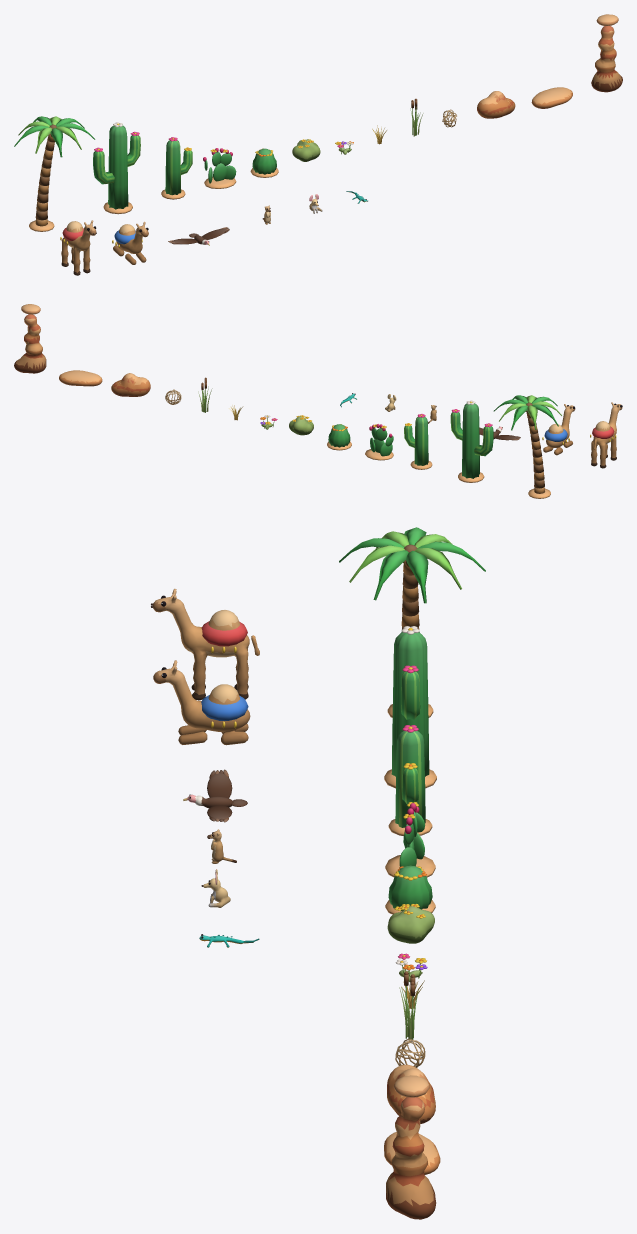
File: DesertLife.fbx
The picture shows the model from 3 angles, top to bottom: view 1: azimuth 30°, elevation 25°; view 2: azimuth 150°, elevation 25°; view 3: azimuth 270°, elevation 25°; orthographic projection. The views are drawn at different scales.
Parts seen in each view (by area): view 1: SaguaroTall, PalmTree, RockPillar, Camel, SaguaroSmall, CamelResting, PricklyPear, BoulderA, SunRock, BarrelCactus, DesertShrub, VultureFlying; view 2: SaguaroTall, PalmTree, RockPillar, Camel, SaguaroSmall, CamelResting, PricklyPear, BoulderA, SunRock, BarrelCactus, DesertShrub; view 3: PalmTree, RockPillar, Camel, SaguaroTall, CamelResting, SaguaroSmall, BarrelCactus, PricklyPear, VultureFlying, DesertShrub, BoulderA.
Boxes of the visible parts, <box> form: SaguaroTall: <box>93,122,140,214</box>; PalmTree: <box>14,116,95,231</box>; RockPillar: <box>591,14,622,92</box>; Camel: <box>60,220,96,275</box>; SaguaroSmall: <box>161,137,192,199</box>; CamelResting: <box>112,221,148,264</box>; PricklyPear: <box>203,148,236,188</box>; BoulderA: <box>477,91,515,118</box>; SunRock: <box>531,87,572,108</box>; BarrelCactus: <box>250,148,278,177</box>; DesertShrub: <box>292,139,320,161</box>; VultureFlying: <box>168,227,229,245</box>; SaguaroTall: <box>450,400,493,482</box>; PalmTree: <box>493,395,561,498</box>; RockPillar: <box>14,304,46,373</box>; Camel: <box>590,402,622,468</box>; SaguaroSmall: <box>404,414,432,469</box>; CamelResting: <box>542,404,575,455</box>; PricklyPear: <box>365,424,393,460</box>; BoulderA: <box>111,373,150,396</box>; SunRock: <box>59,370,102,386</box>; BarrelCactus: <box>327,424,351,450</box>; DesertShrub: <box>289,415,313,435</box>; PalmTree: <box>339,527,485,717</box>; RockPillar: <box>386,1075,436,1219</box>; Camel: <box>151,588,259,700</box>; SaguaroTall: <box>384,626,436,788</box>; CamelResting: <box>153,660,250,745</box>; SaguaroSmall: <box>388,725,432,835</box>; BarrelCactus: <box>385,865,435,914</box>; PricklyPear: <box>385,802,435,877</box>; VultureFlying: <box>183,769,247,822</box>; DesertShrub: <box>387,903,434,943</box>; BoulderA: <box>387,1064,435,1123</box>.
Bounding box in the file's own units: 105 × 16.94 × 27.85.
Materials: 1 (1 with a texture image).
